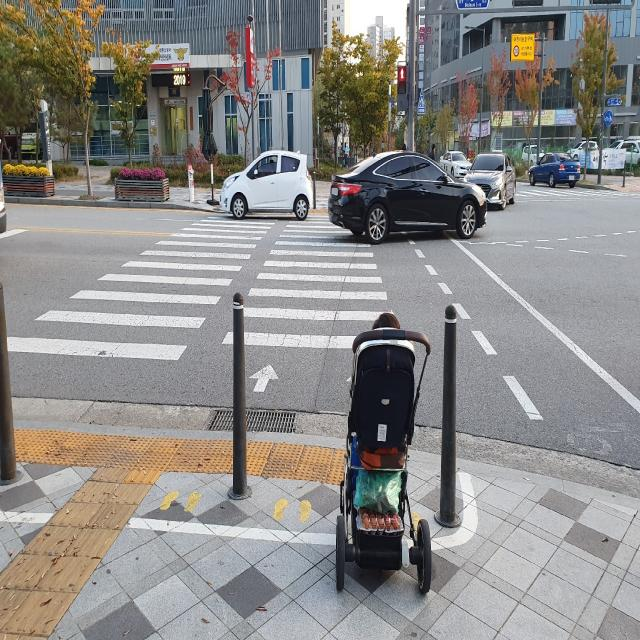빨간불: (397, 64, 407, 96)
횡단보도: (0, 204, 435, 422)
